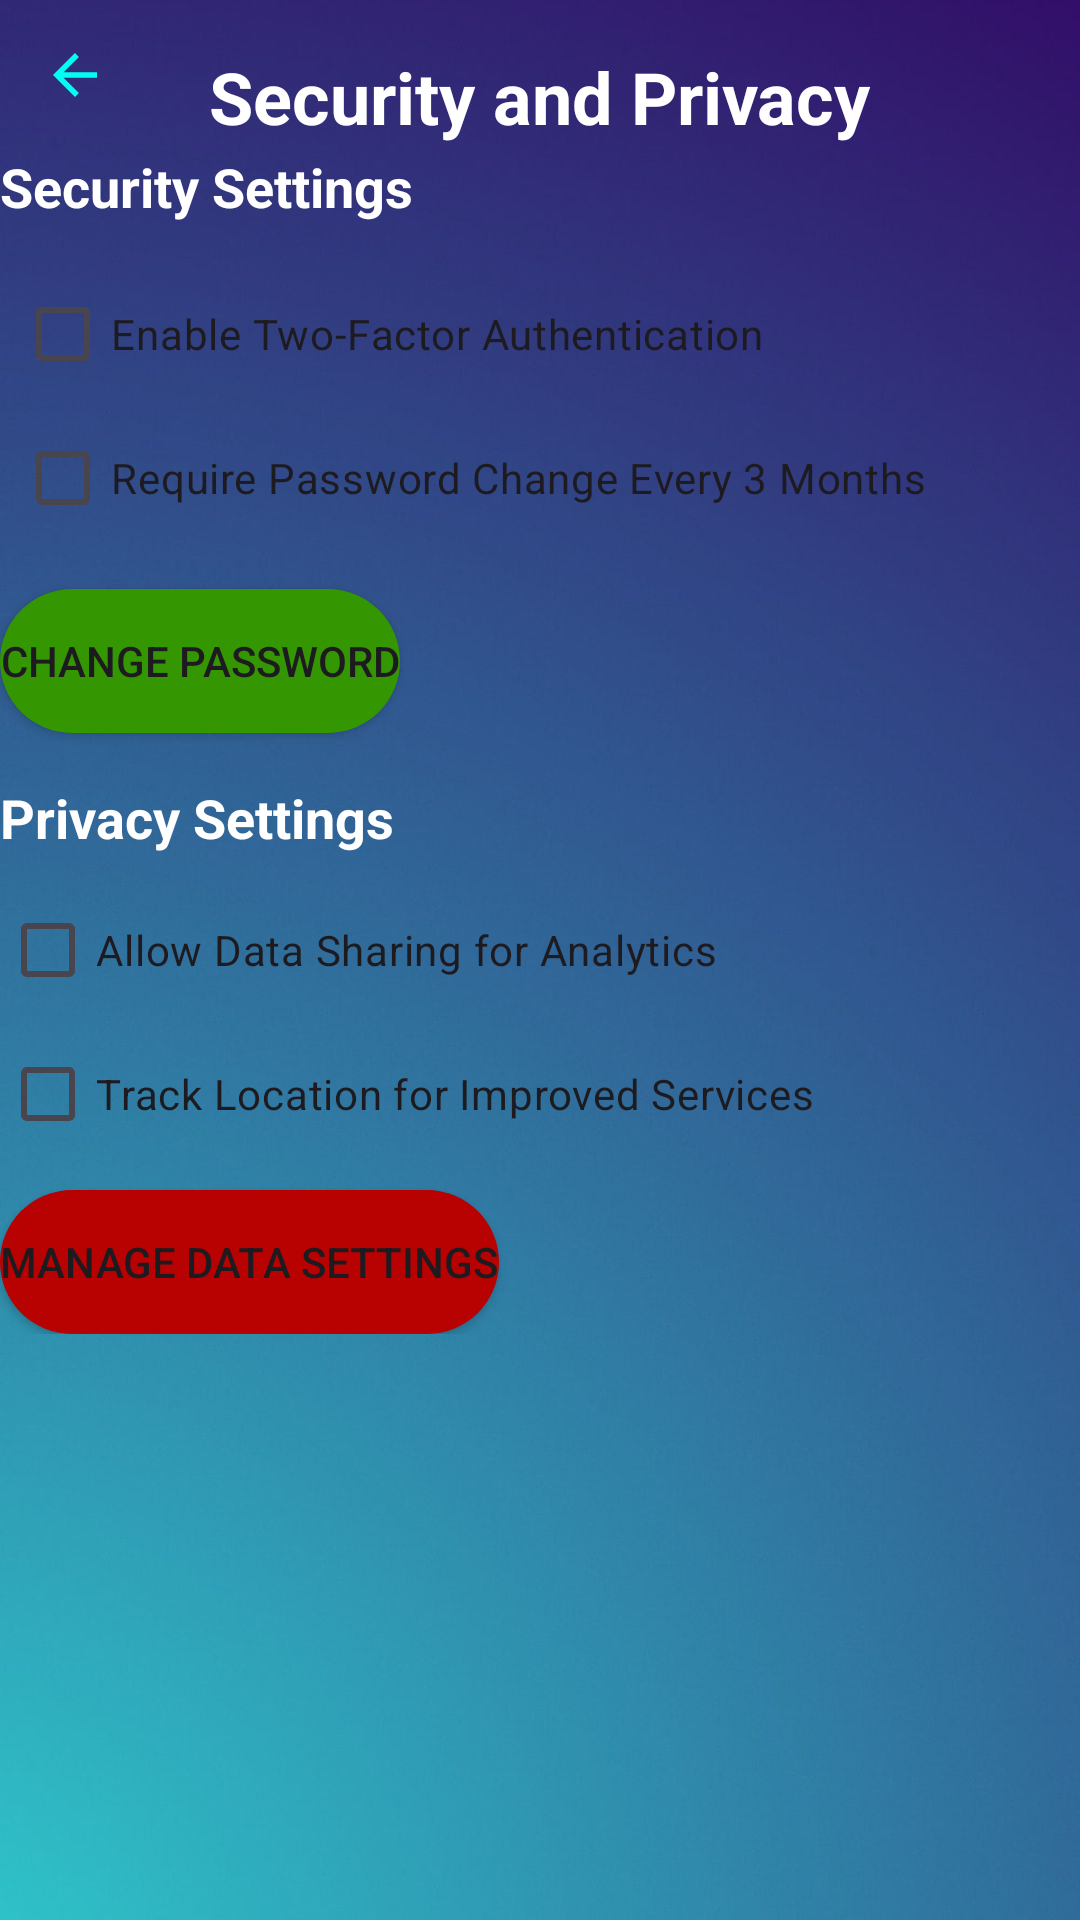

Point at icon controls on the screen. Image size 1080x1920, points as (x,y).
return back arrow: (75,75)
